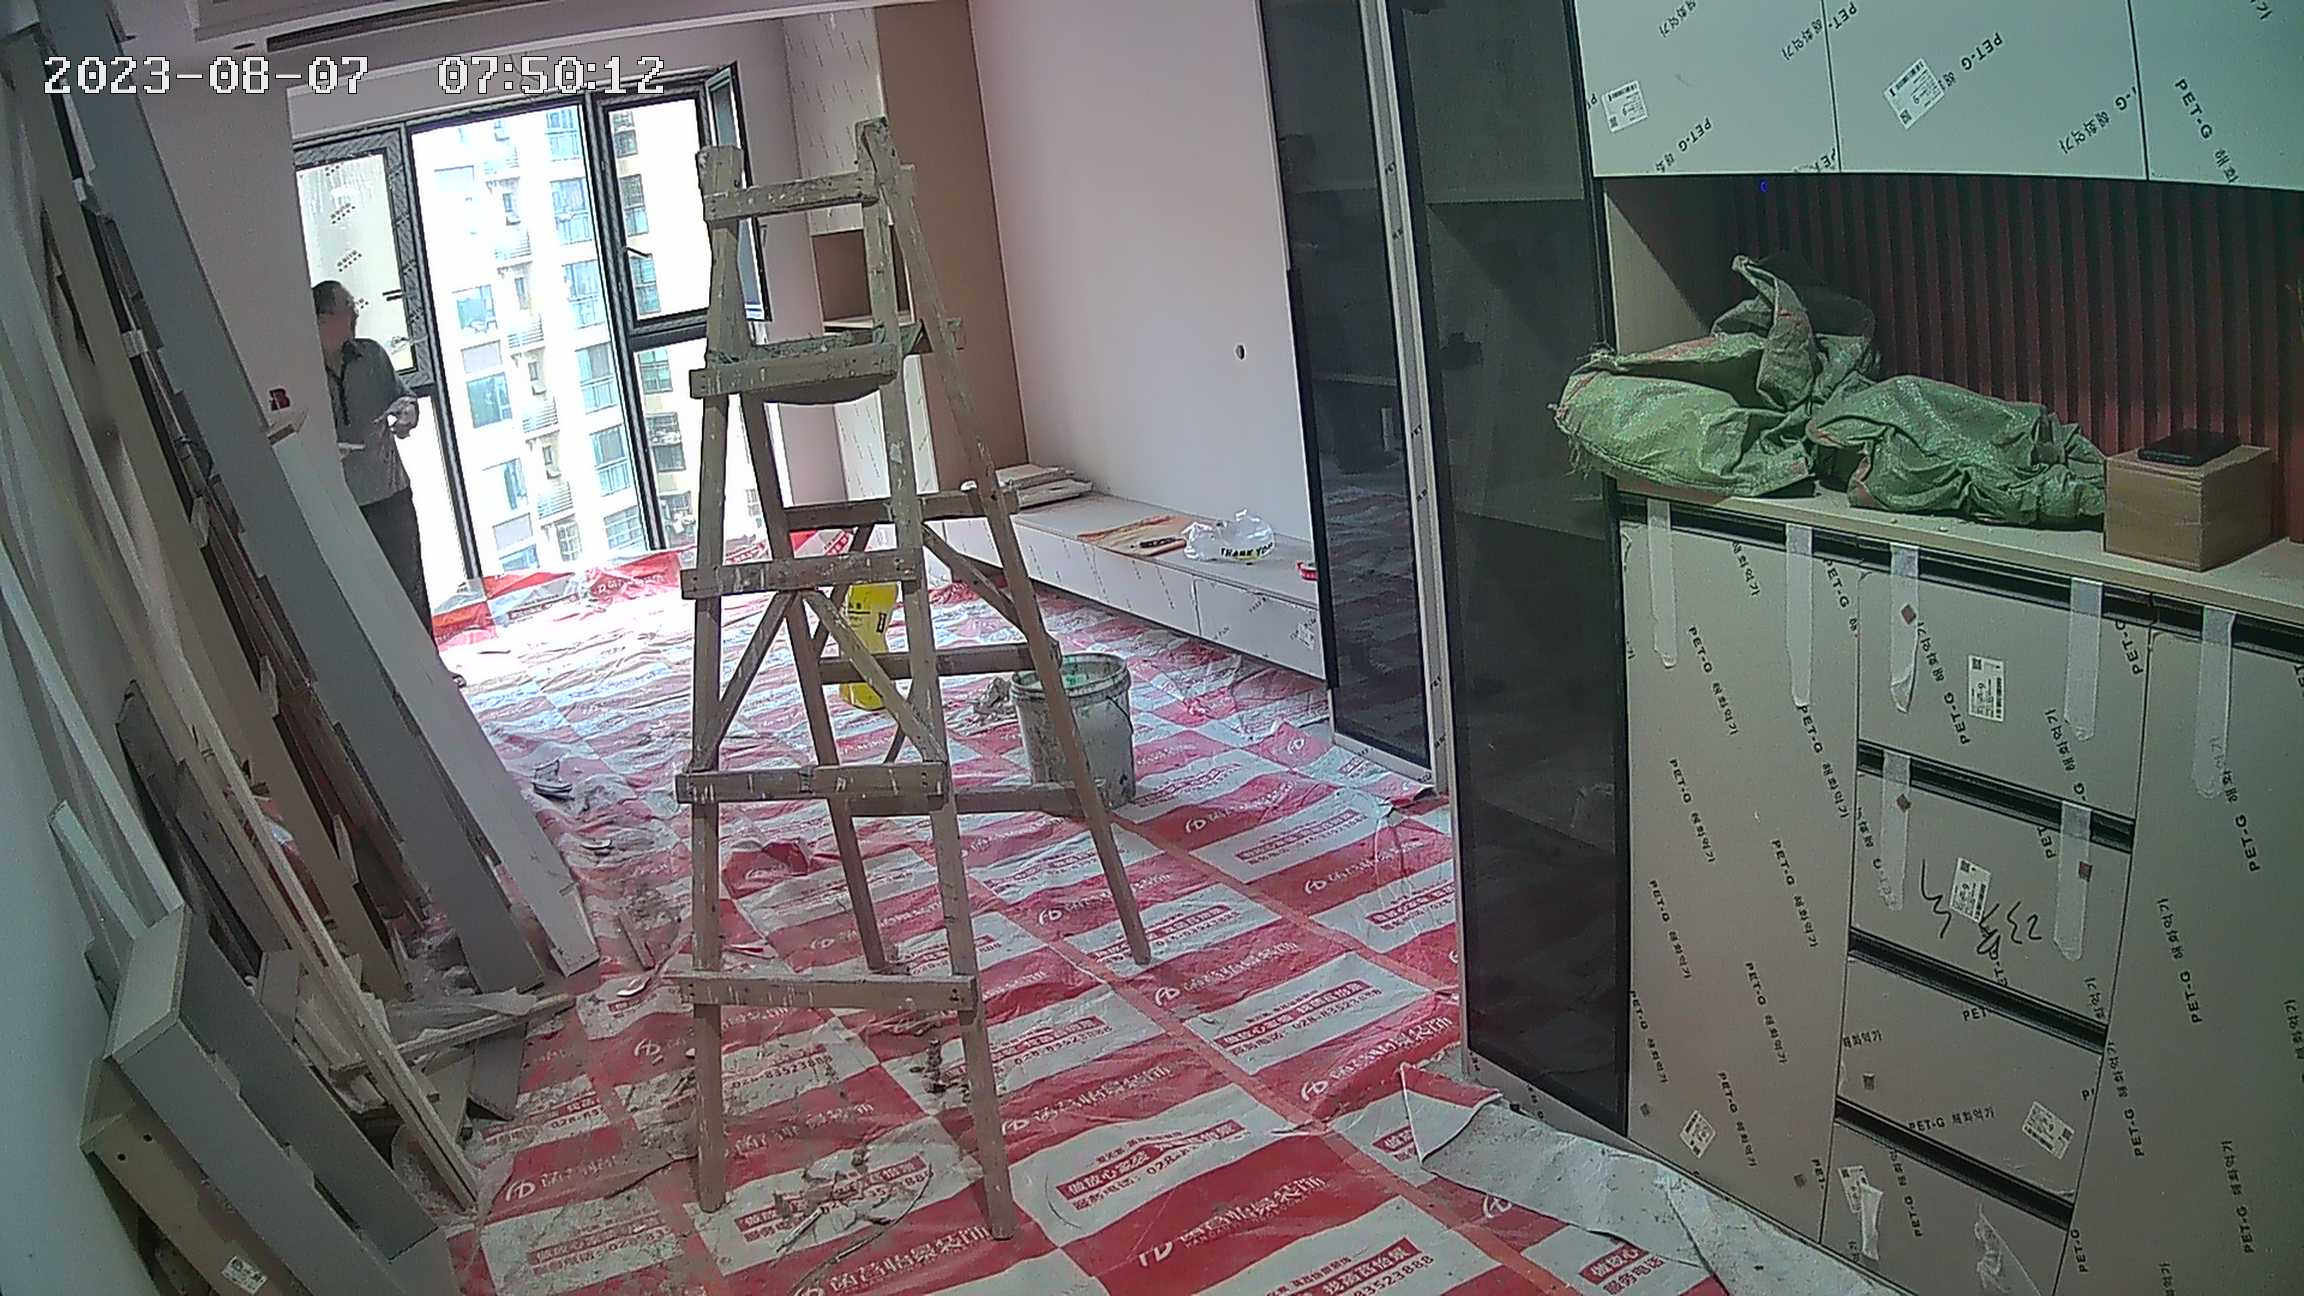people: (314, 277, 476, 685)
window: (297, 82, 773, 588)
